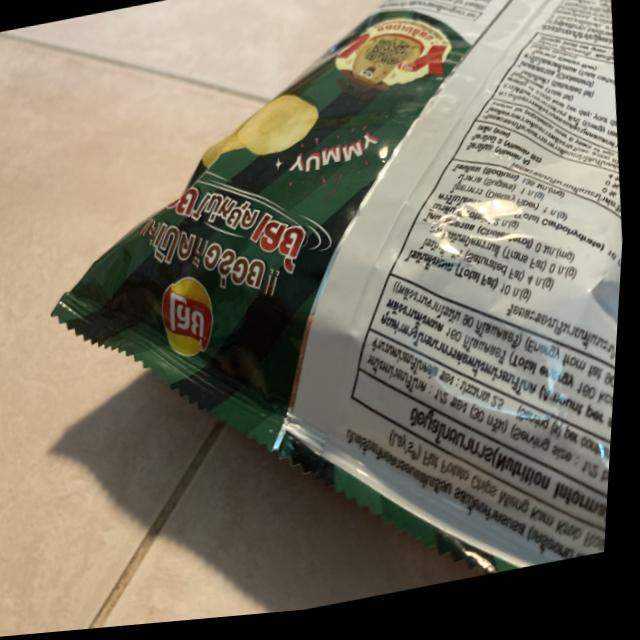Laygreen: (7, 0, 640, 637)
